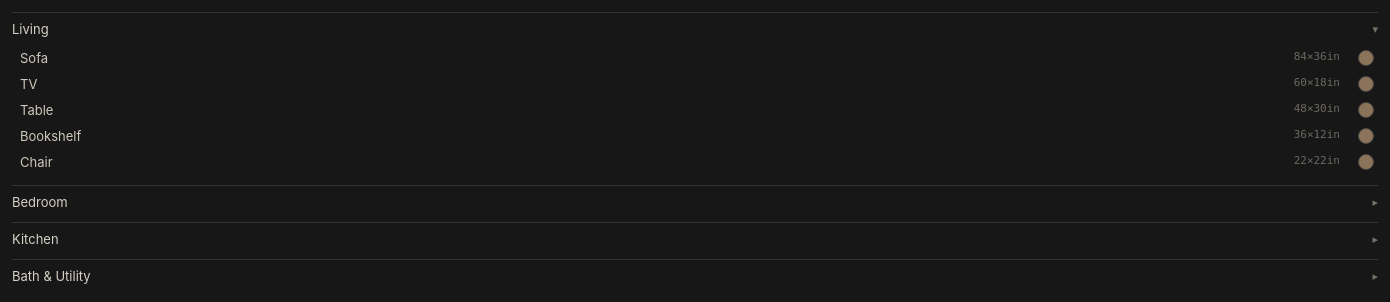
palette › offers no finish on porcelain pieces
The width and height of the screenshot is (1390, 302).
Click the text "Bath & Utility": [51, 276] box [12, 268, 91, 284]
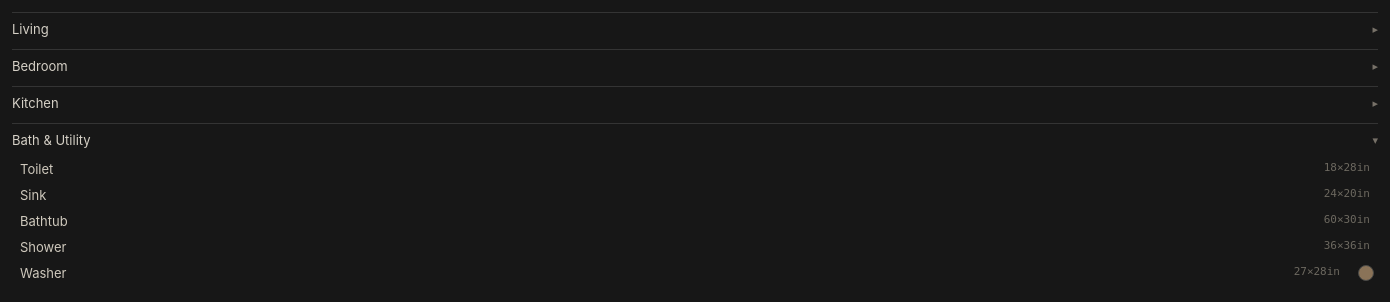
Expected: the button named "Configure Washer" is shown, [1354, 261, 1378, 285]
